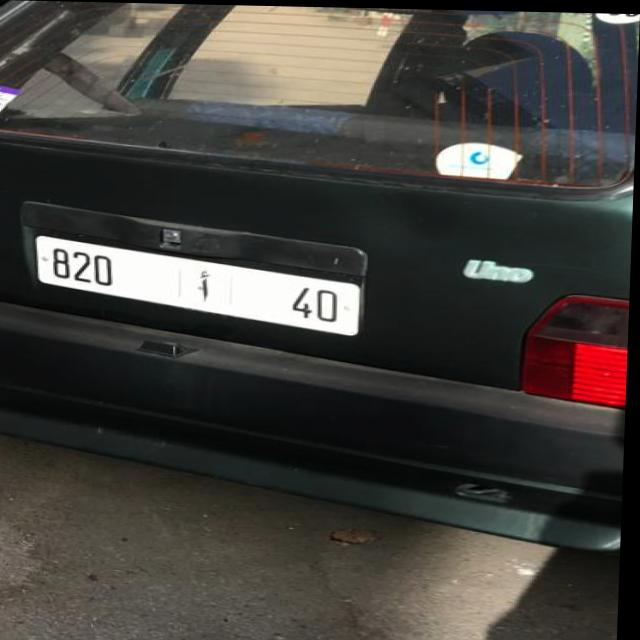License-Plate: (38, 235, 363, 333)
